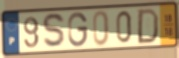0: (91, 9, 111, 48), (115, 9, 134, 46)
9: (22, 16, 40, 49)
D: (136, 7, 161, 46)
G: (67, 11, 89, 49)
S: (41, 12, 68, 51)
